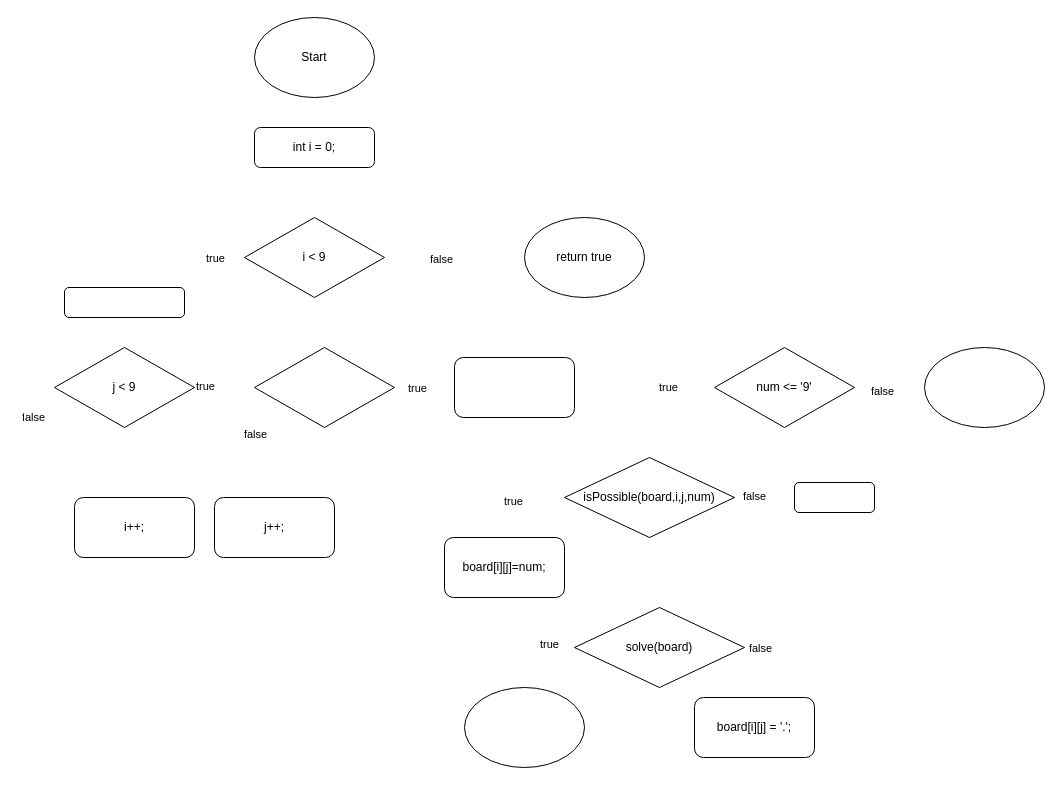
This 1062x785 diagram has some shape labels left out. Here are the shapes that lost their labels. From the top down, the centre of each, then its label:
[124,302]: int j = 0;
[324,387]: board[i][j] == "."
[514,387]: char num = '1';
[984,387]: return false
[834,497]: num++;
[524,727]: return true;
